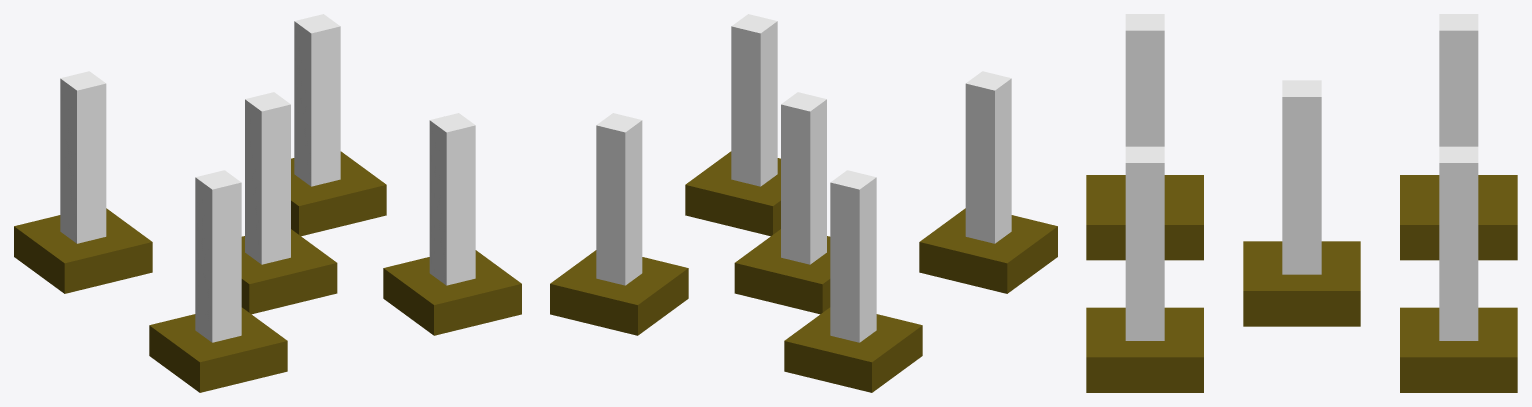
Rendered from trap_thornfloor.fbx.
3 renders of one model, left to right at view 1: azimuth 30°, elevation 25°; view 2: azimuth 150°, elevation 25°; view 3: azimuth 270°, elevation 25°, orthographic. The views are drawn at different scales.
Visible parts, largest first — view 1: trap_thornfloor_thorn, trap_thornfloor_floor; view 2: trap_thornfloor_thorn, trap_thornfloor_floor; view 3: trap_thornfloor_floor, trap_thornfloor_thorn.
Boxes of the visible parts, box(x1,y1,x2,y2) form: trap_thornfloor_thorn: box(60, 14, 475, 342); trap_thornfloor_floor: box(14, 151, 521, 392); trap_thornfloor_thorn: box(596, 14, 1011, 342); trap_thornfloor_floor: box(550, 151, 1057, 392); trap_thornfloor_floor: box(1086, 175, 1517, 392); trap_thornfloor_thorn: box(1125, 14, 1478, 340).
Size of the model in its own units: 11 by 6 by 11.
